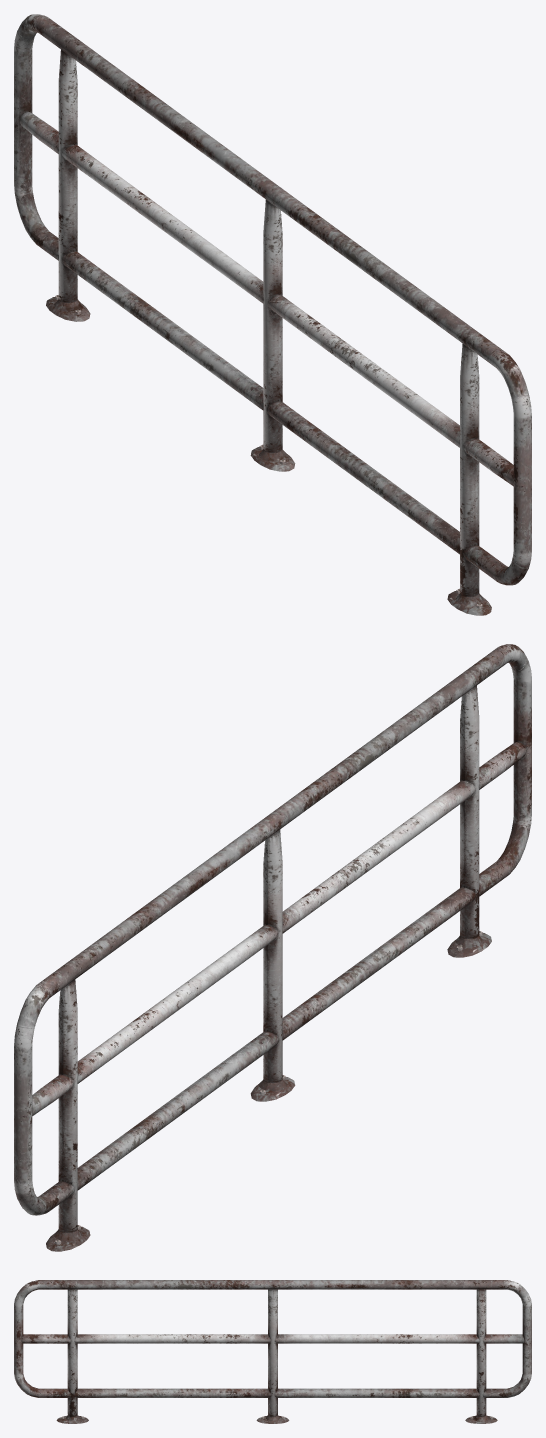
File: railing0.obj
3 views of the same model, one above another, from view 1: azimuth 30°, elevation 25°; view 2: azimuth 150°, elevation 25°; view 3: azimuth 270°, elevation 25° (orthographic). The views are drawn at different scales.
Visible parts, largest first — view 1: g_polySurface13.002_meshId2_name; view 2: g_polySurface13.002_meshId2_name; view 3: g_polySurface13.002_meshId2_name.
Part boxes in pixels (x1,y1,x2,y2): g_polySurface13.002_meshId2_name: [14, 14, 531, 615]; g_polySurface13.002_meshId2_name: [14, 644, 531, 1251]; g_polySurface13.002_meshId2_name: [14, 1280, 531, 1423].
Bounding box in the file's own units: 0.2207 × 1.88 × 6.33.
3 materials, 3 textured.
